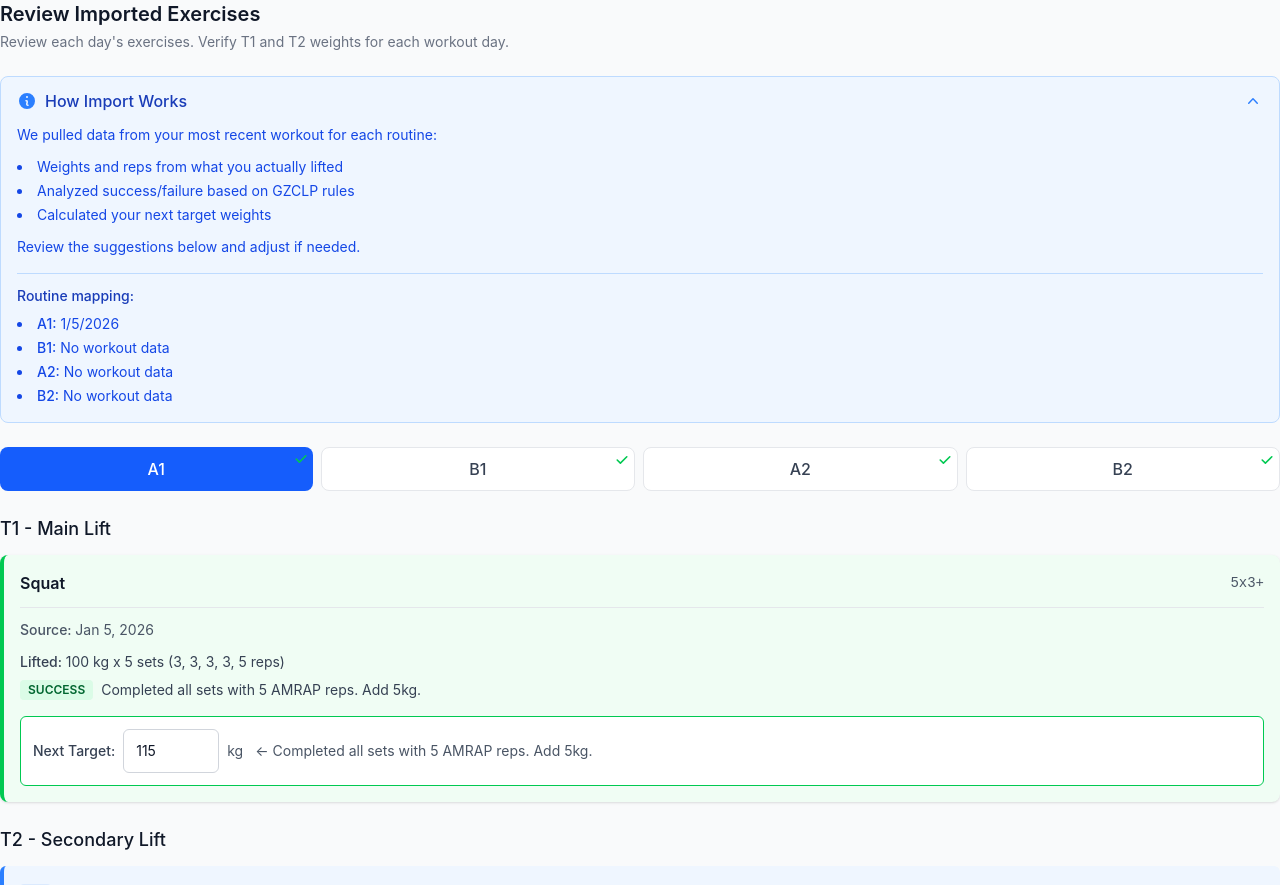
Test: Import Wizard with Progression Analysis › User Overrides › preserves user overrides when switching tabs
Check: the heading "Squat" is shown, box [20,571,65,595]
Switch to B1 tab
Click the tab named "day b1". click: (478,469)
box: [320,447,635,491]
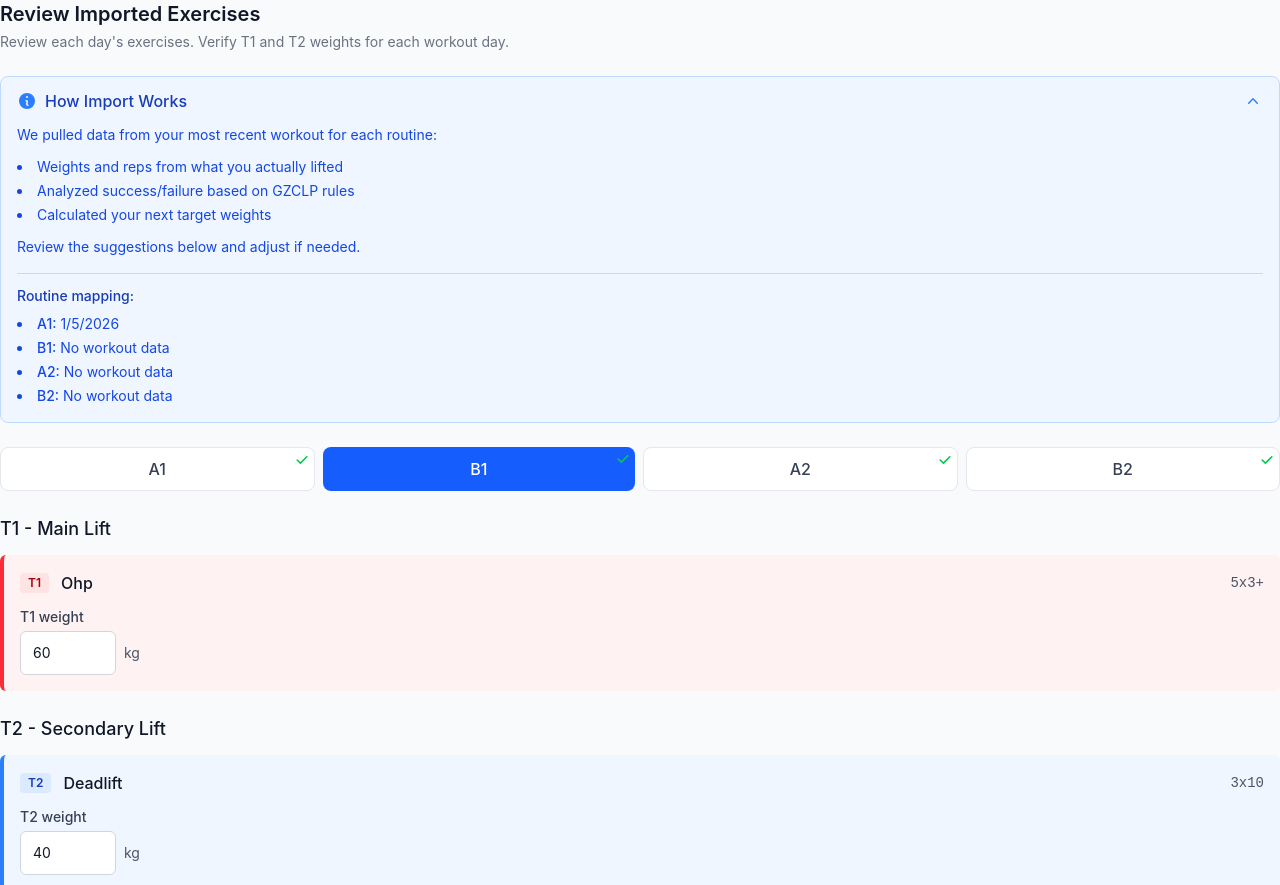
Check: the text "Ohp" is shown, box [61,571,93,595]
Switch back to A1 tab
Click the tab named "day a1". click: (157,469)
box: [0,447,314,491]
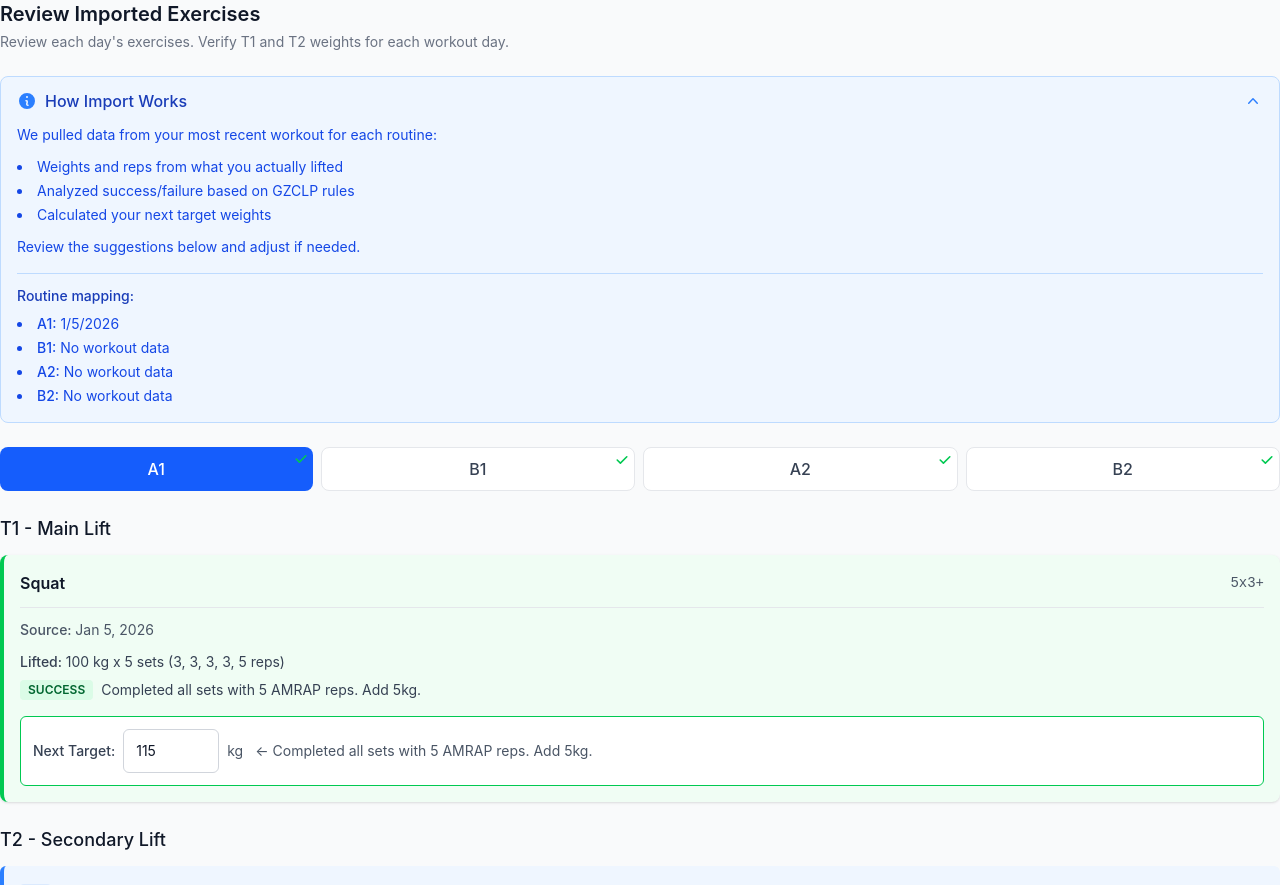
Check: the heading "Squat" is shown, box [20,571,65,595]
Check: the number field labelled "Next Target:" holds "115", box [123,729,219,773]
